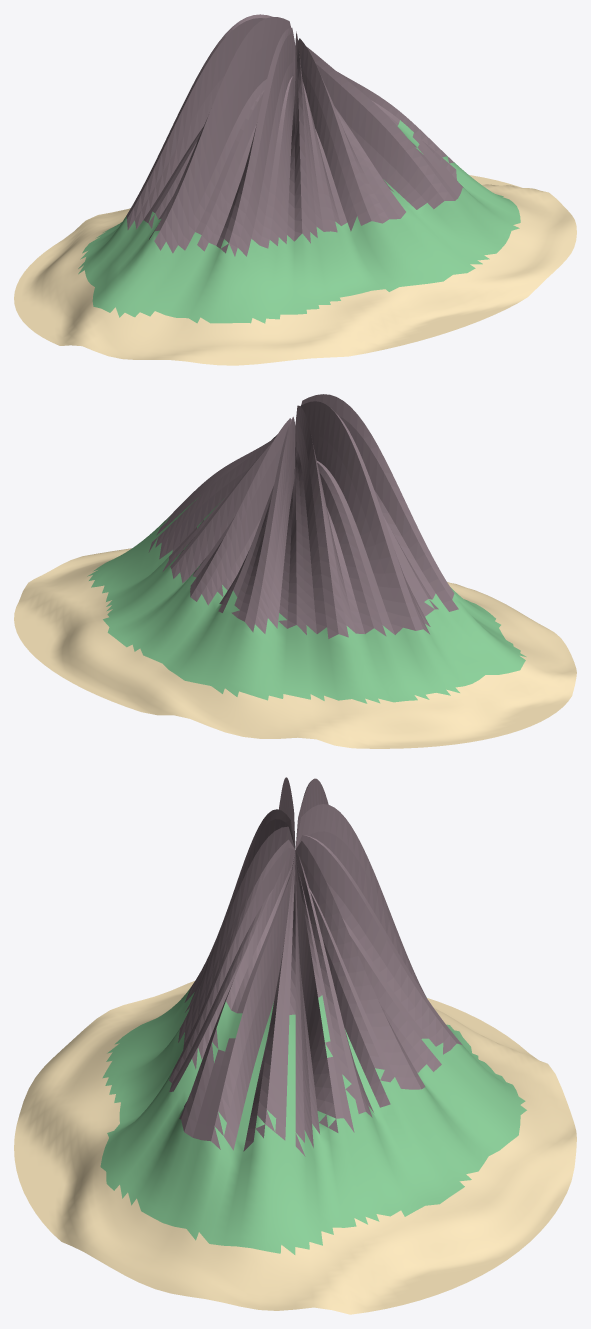
Rendered from BumperFarIslandA.glb.
The picture shows the model from 3 angles, top to bottom: view 1: azimuth 30°, elevation 25°; view 2: azimuth 150°, elevation 25°; view 3: azimuth 270°, elevation 25°; orthographic projection. The views are drawn at different scales.
Visible parts, largest first — view 1: Rock, Sand, Jungle; view 2: Rock, Sand, Jungle; view 3: Sand, Rock, Jungle.
Part boxes in pixels (x1,y1,x2,y2): Rock: (126, 14, 463, 256); Sand: (14, 175, 576, 365); Jungle: (78, 120, 520, 323); Rock: (148, 394, 458, 638); Sand: (14, 548, 576, 748); Jungle: (87, 495, 526, 703); Sand: (14, 981, 576, 1314); Rock: (169, 777, 462, 1156); Jungle: (100, 987, 526, 1254).
Size of the model in its own units: 200 by 95.18 by 140.
